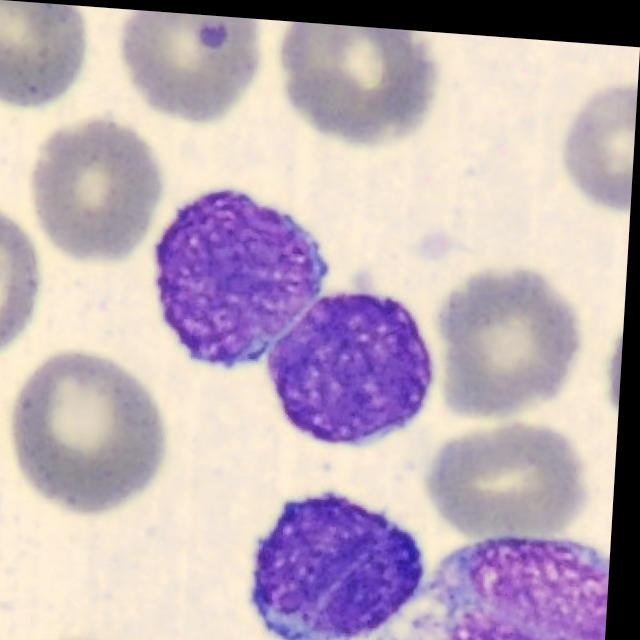Linfocito: (158, 184, 332, 363), (258, 486, 433, 640), (271, 285, 437, 439)
